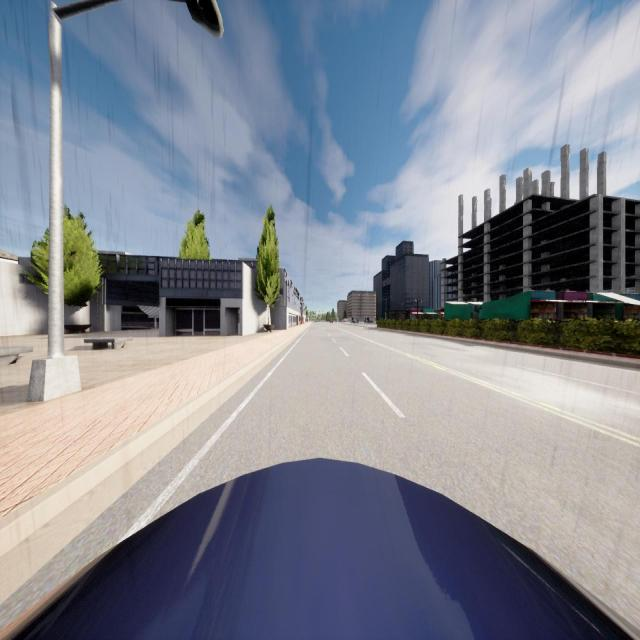Vehicle: (0, 456, 640, 640), (364, 318, 373, 324), (352, 318, 359, 324), (330, 320, 333, 324)
